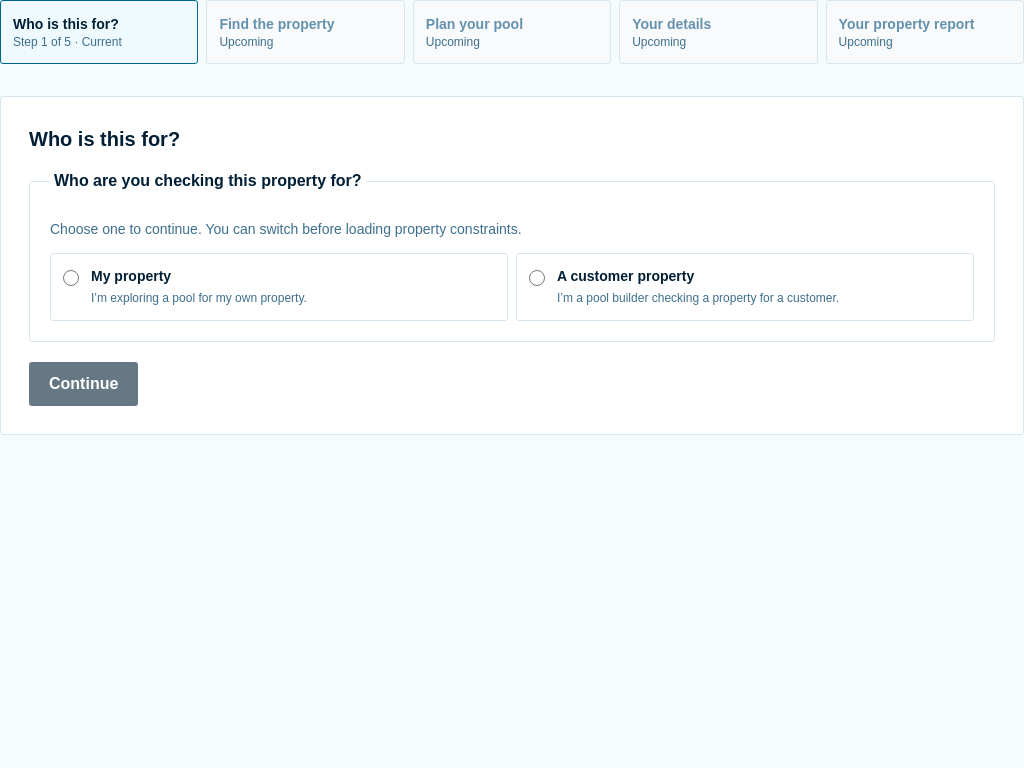
Test case: PropertyCheckJourney › starts empty and prevents duplicate requests while loading
The width and height of the screenshot is (1024, 768).
Click the radio button labelled "My property" at (71, 278), box [63,270,79,286]
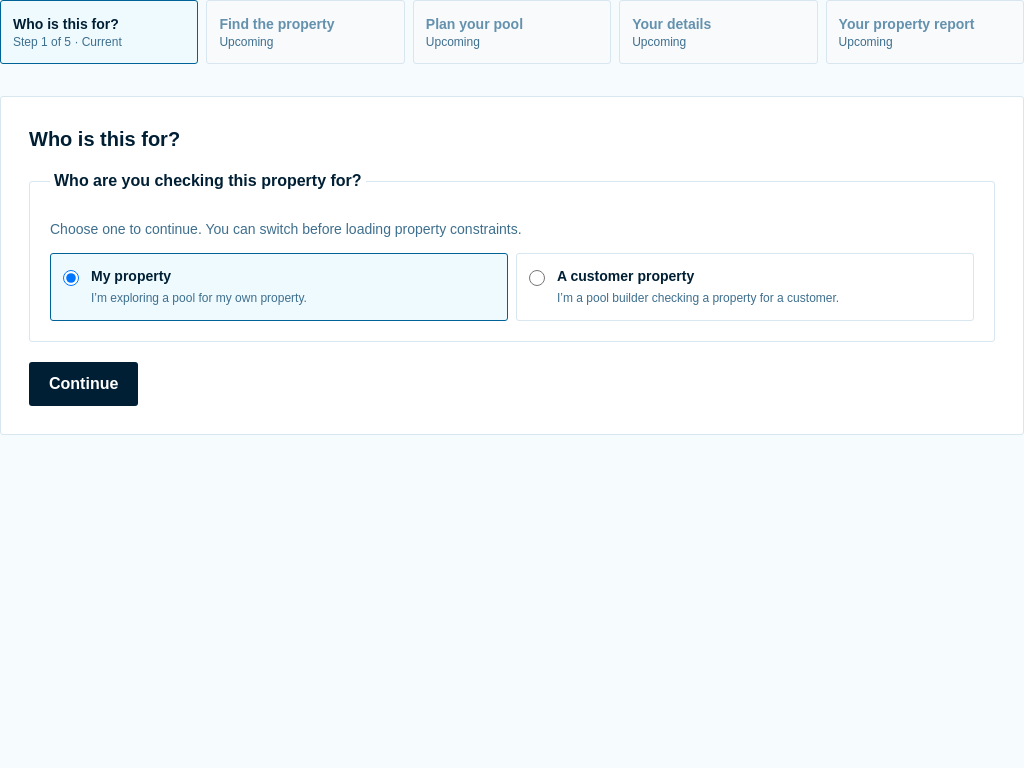
Click the button "Continue" at (84, 384), box [29,362,138,406]
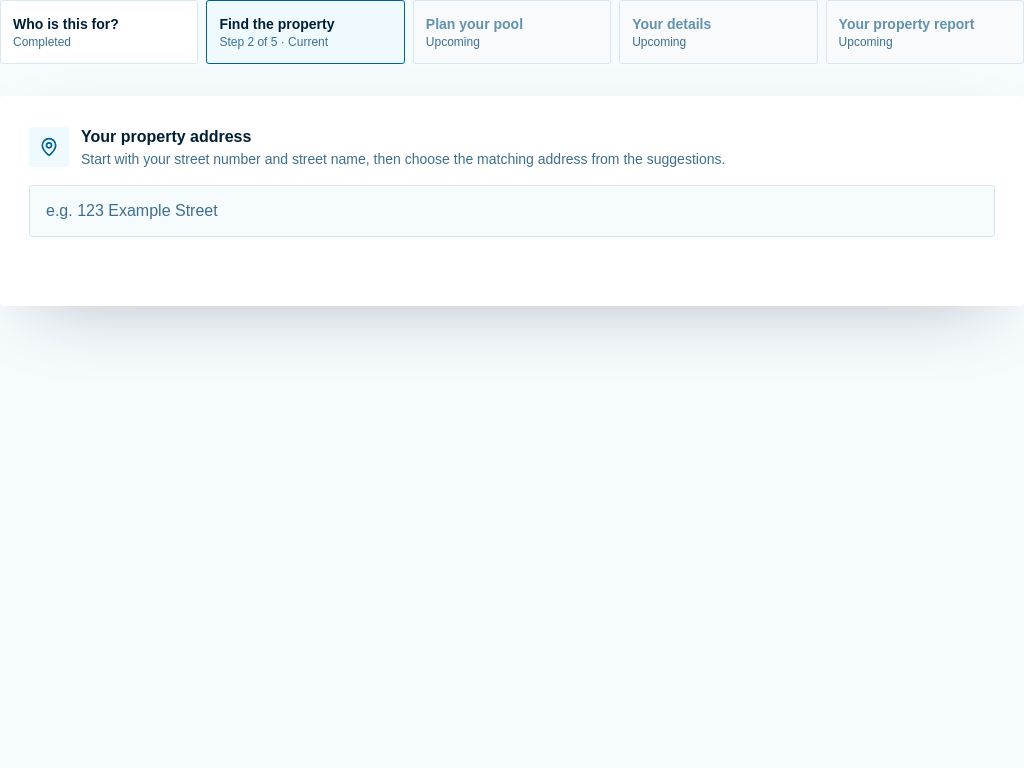
Now the field named "Auckland property address" is empty
Type "42A Bahari Drive, Ranui, Auckland" into the field named "Auckland property address" at (512, 211), box [29,185,995,237]
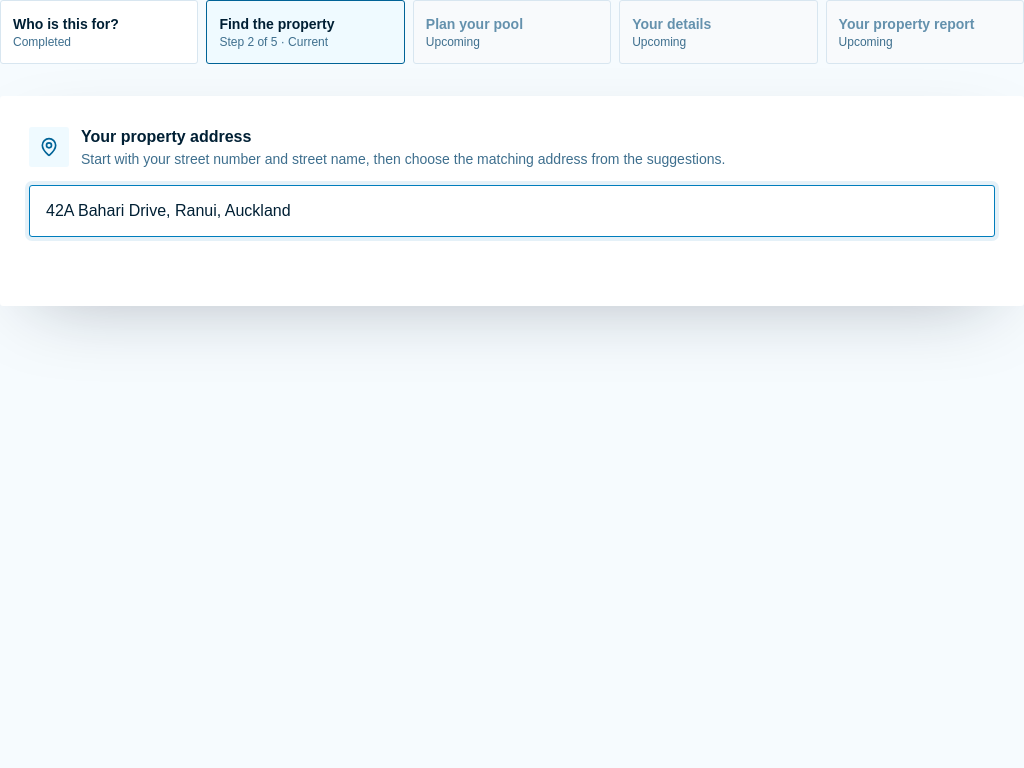
Press Enter
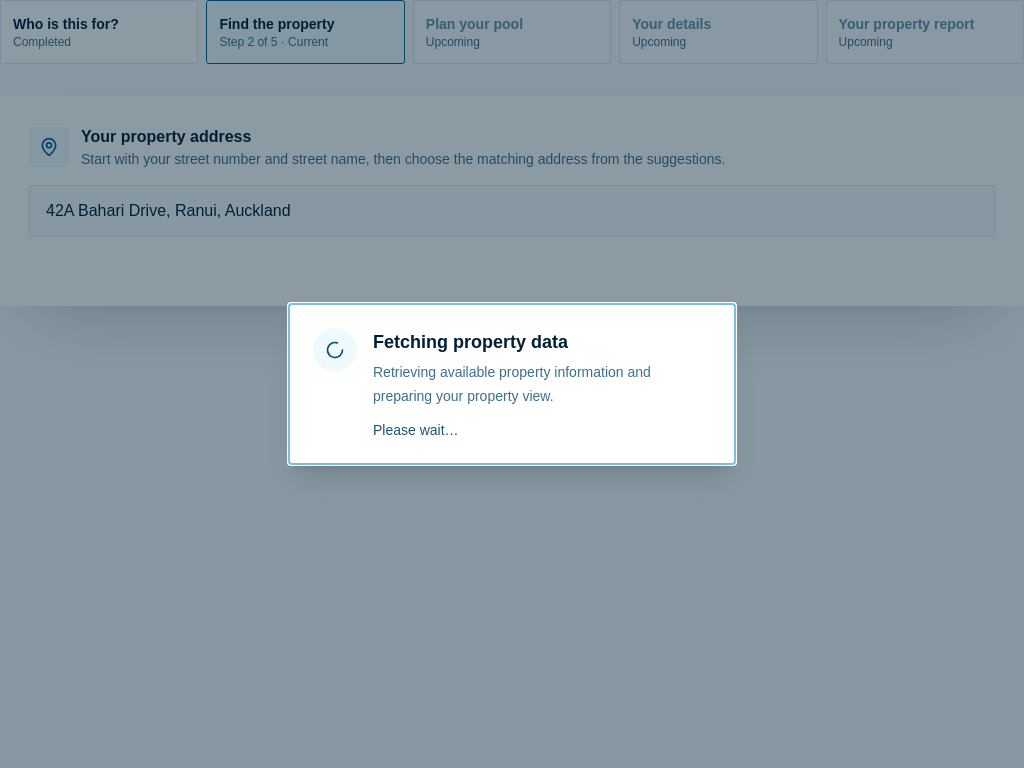
Now the heading "Fetching property data" is shown, box [373,332,568,352]
Now the text "Retrieving available property information and preparing your property view." is shown, box [373,364,651,404]
Press Enter
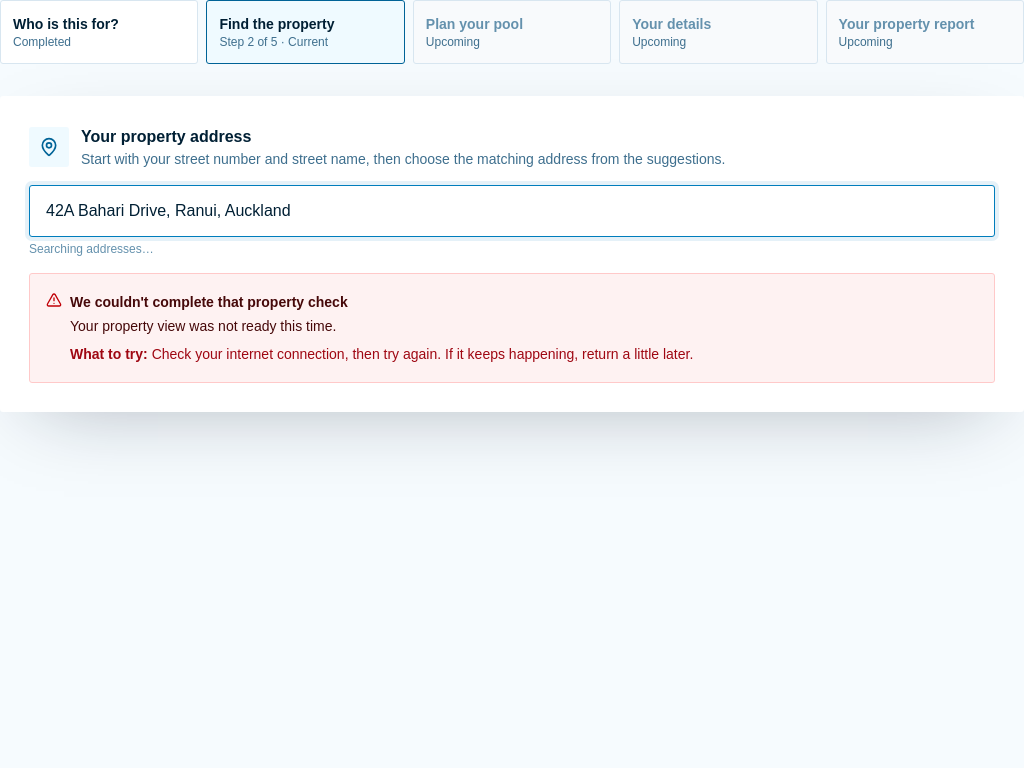
Now the text "We couldn't complete that property check" is shown, box [70,294,348,310]
Now the text "Check your internet connection, then try again" is shown, box [152,346,693,362]
